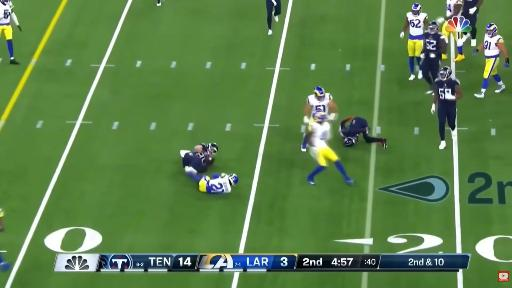Helmet: (439, 67, 452, 80), (314, 86, 325, 101), (313, 110, 326, 122), (425, 22, 438, 34), (486, 24, 498, 36), (344, 137, 357, 146), (208, 143, 218, 154), (412, 3, 421, 15), (229, 174, 238, 185)
Jersey: (484, 35, 503, 78), (435, 78, 459, 106), (424, 32, 446, 59), (340, 117, 369, 137), (308, 122, 330, 148), (407, 12, 427, 40), (200, 175, 231, 193), (307, 94, 332, 115), (483, 34, 504, 58), (196, 142, 214, 165), (0, 2, 13, 26), (447, 0, 462, 17), (463, 0, 478, 15)
Player: (306, 112, 353, 184), (473, 24, 509, 98), (431, 67, 462, 149), (400, 3, 427, 80), (421, 22, 447, 93), (339, 116, 387, 149), (0, 0, 21, 64), (442, 0, 464, 61), (304, 87, 337, 124), (181, 143, 217, 174), (462, 0, 483, 46), (188, 174, 238, 193), (266, 0, 281, 34), (0, 254, 10, 271), (0, 208, 4, 231), (157, 0, 161, 6)
